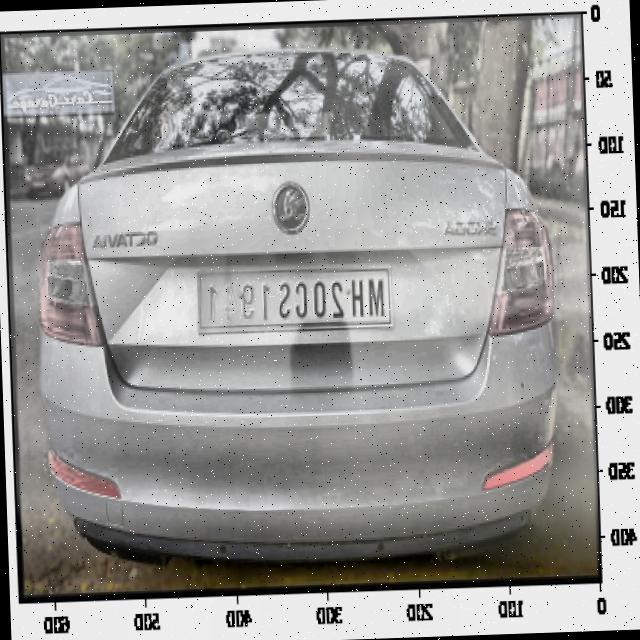license_plate: (198, 269, 394, 334)
